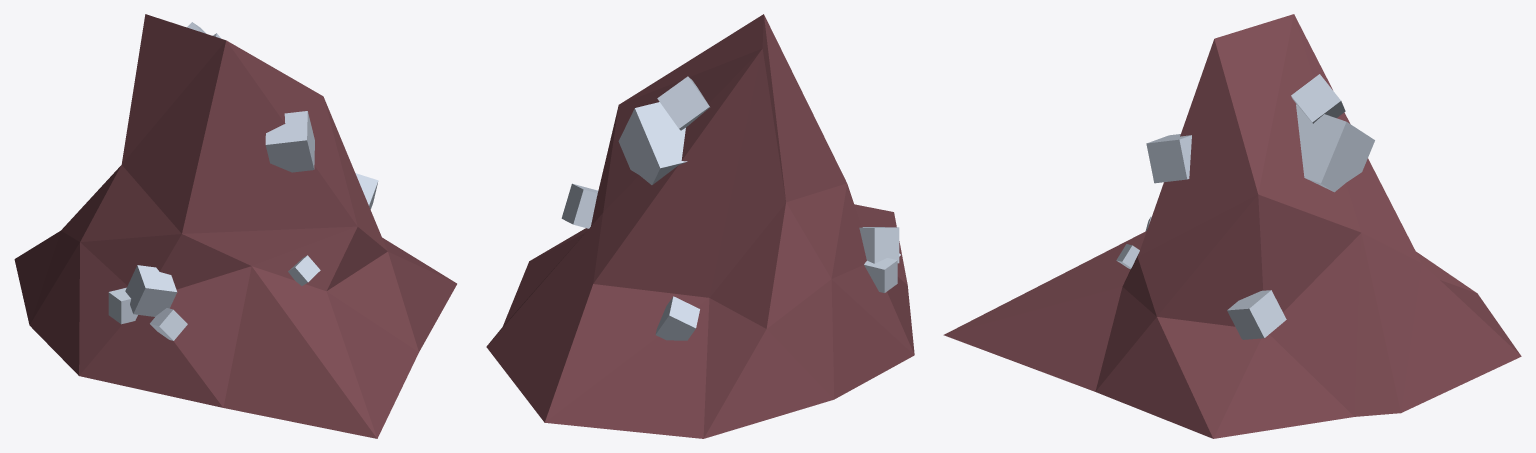
The model's file is cubeore_3.fbx.
3 views of the same model, side by side, from view 1: azimuth 30°, elevation 25°; view 2: azimuth 150°, elevation 25°; view 3: azimuth 270°, elevation 25° (orthographic). The views are drawn at different scales.
Visible parts, largest first — view 1: Cube.007; view 2: Cube.007; view 3: Cube.007.
Boxes of the visible parts, <box> form: Cube.007: <box>14,14,456,438</box>; Cube.007: <box>486,14,914,438</box>; Cube.007: <box>943,14,1521,438</box>.
Size of the model in its own units: 253 by 195 by 345.
